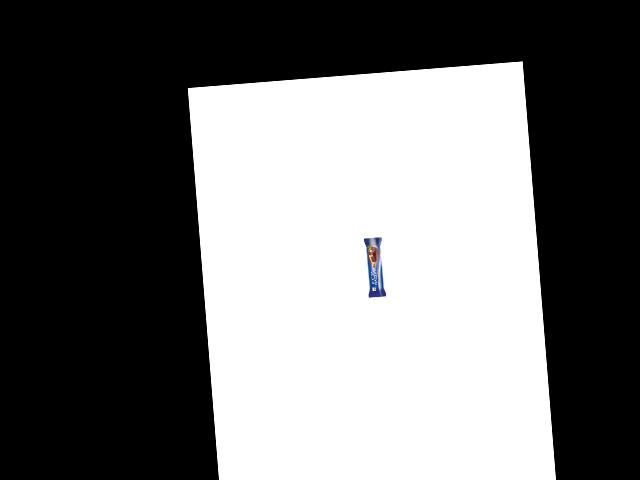chocolate: (357, 229, 387, 299)
